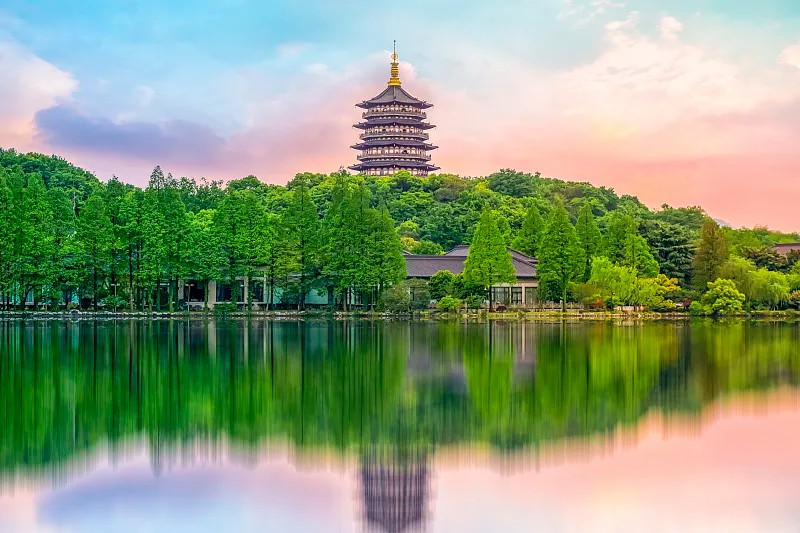Leifeng: (344, 39, 444, 186)
